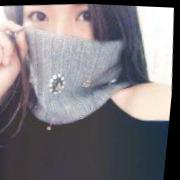WRONG: (13, 2, 119, 103)
